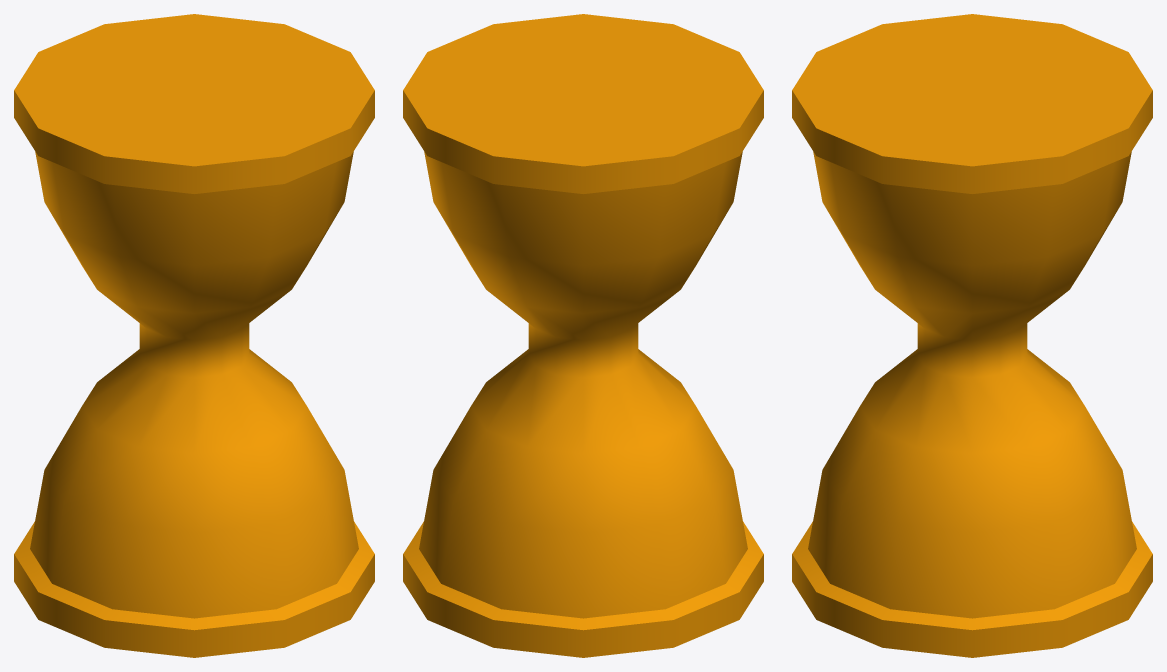
Rendered from Sandglass_TypeA.FBX.
The picture shows the model from 3 angles, left to right: view 1: azimuth 30°, elevation 25°; view 2: azimuth 150°, elevation 25°; view 3: azimuth 270°, elevation 25°; orthographic projection.
Visible parts, largest first — view 1: Sandglass_TypeA; view 2: Sandglass_TypeA; view 3: Sandglass_TypeA.
Part boxes in pixels (left/top/right/bottom): Sandglass_TypeA: left=14, top=14, right=374, bottom=657; Sandglass_TypeA: left=403, top=14, right=763, bottom=657; Sandglass_TypeA: left=792, top=14, right=1152, bottom=657.
Size of the model in its own units: 13.29 by 19.99 by 13.29.
